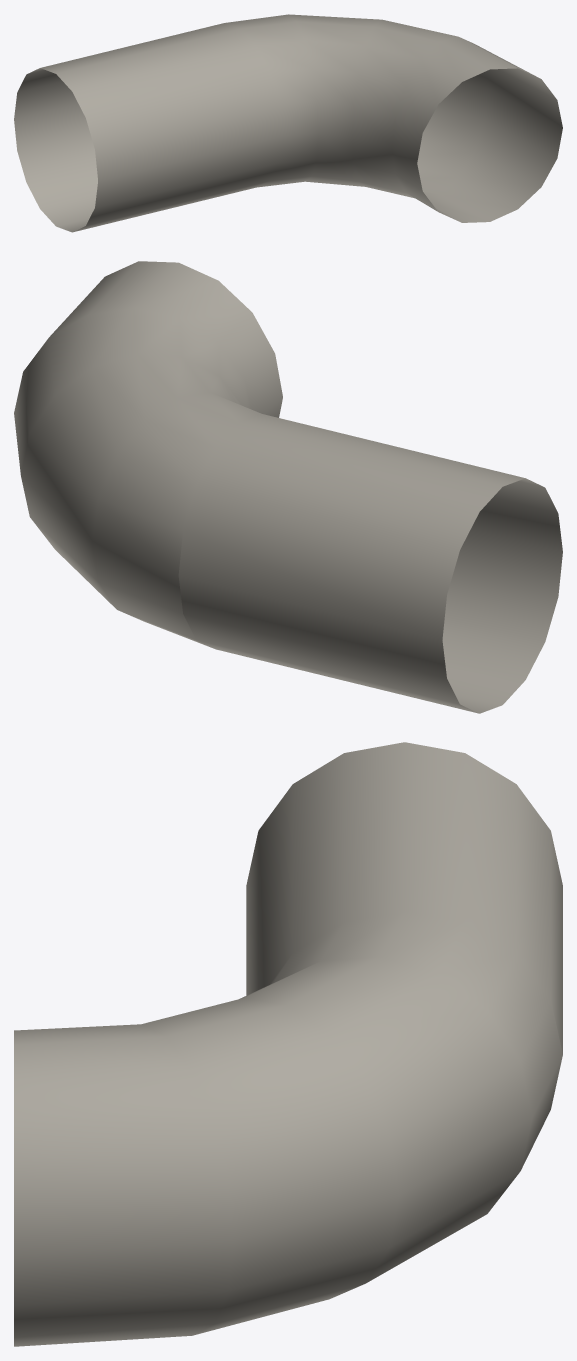
Rendered from pipe_connector_shortcurve.fbx.
The picture shows the model from 3 angles, top to bottom: view 1: azimuth 30°, elevation 25°; view 2: azimuth 150°, elevation 25°; view 3: azimuth 270°, elevation 25°; orthographic projection. The views are drawn at different scales.
Visible parts, largest first — view 1: pipe_connector_shortcurve; view 2: pipe_connector_shortcurve; view 3: pipe_connector_shortcurve.
Part boxes in pixels (box(x1,y1,x2,y2)): pipe_connector_shortcurve: box(14, 14, 562, 232); pipe_connector_shortcurve: box(14, 261, 562, 713); pipe_connector_shortcurve: box(14, 742, 562, 1346).
Bounding box in the file's own units: 120 × 43.45 × 75.34.
